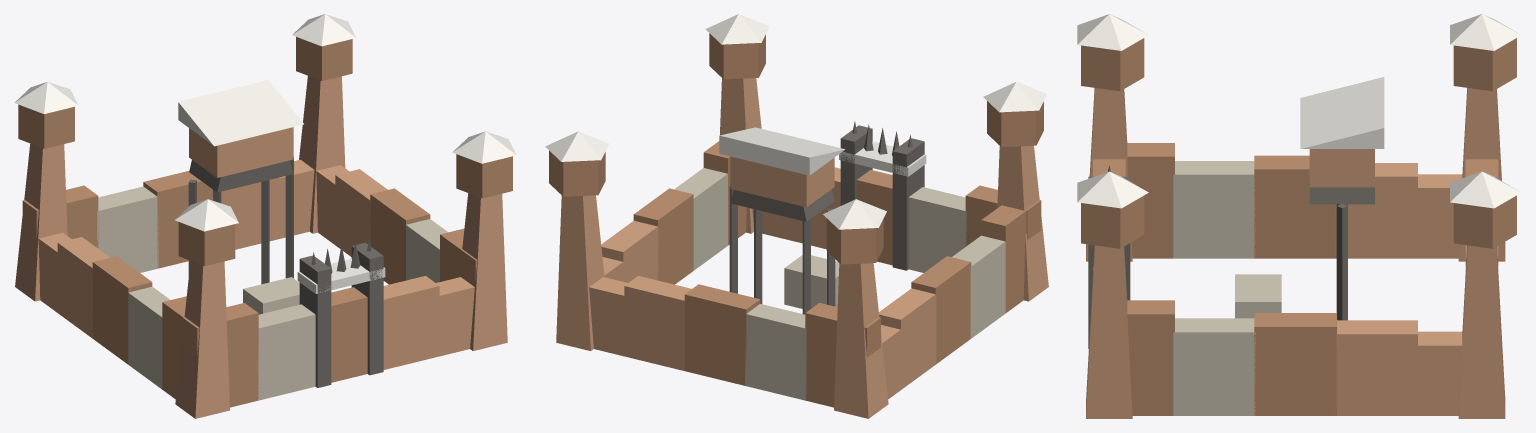
File: fort.glb
3 views of the same model, side by side, from view 1: azimuth 30°, elevation 25°; view 2: azimuth 150°, elevation 25°; view 3: azimuth 270°, elevation 25° (orthographic). The views are drawn at different scales.
Parts seen in each view (by area): view 1: scrap_fort; view 2: scrap_fort; view 3: scrap_fort.
Boxes of the visible parts, <box> form: scrap_fort: <box>14,14,516,418</box>; scrap_fort: <box>545,14,1048,418</box>; scrap_fort: <box>1077,14,1521,418</box>.
Size of the model in its own units: 0.9617 by 0.57 by 0.9538.
